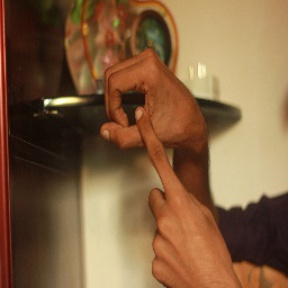Q: (95, 48, 203, 243)
